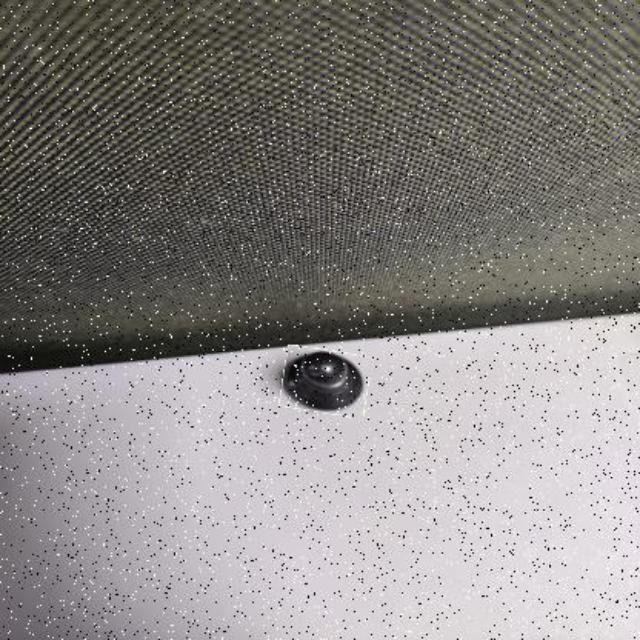black-pawn: (282, 348, 368, 415)
